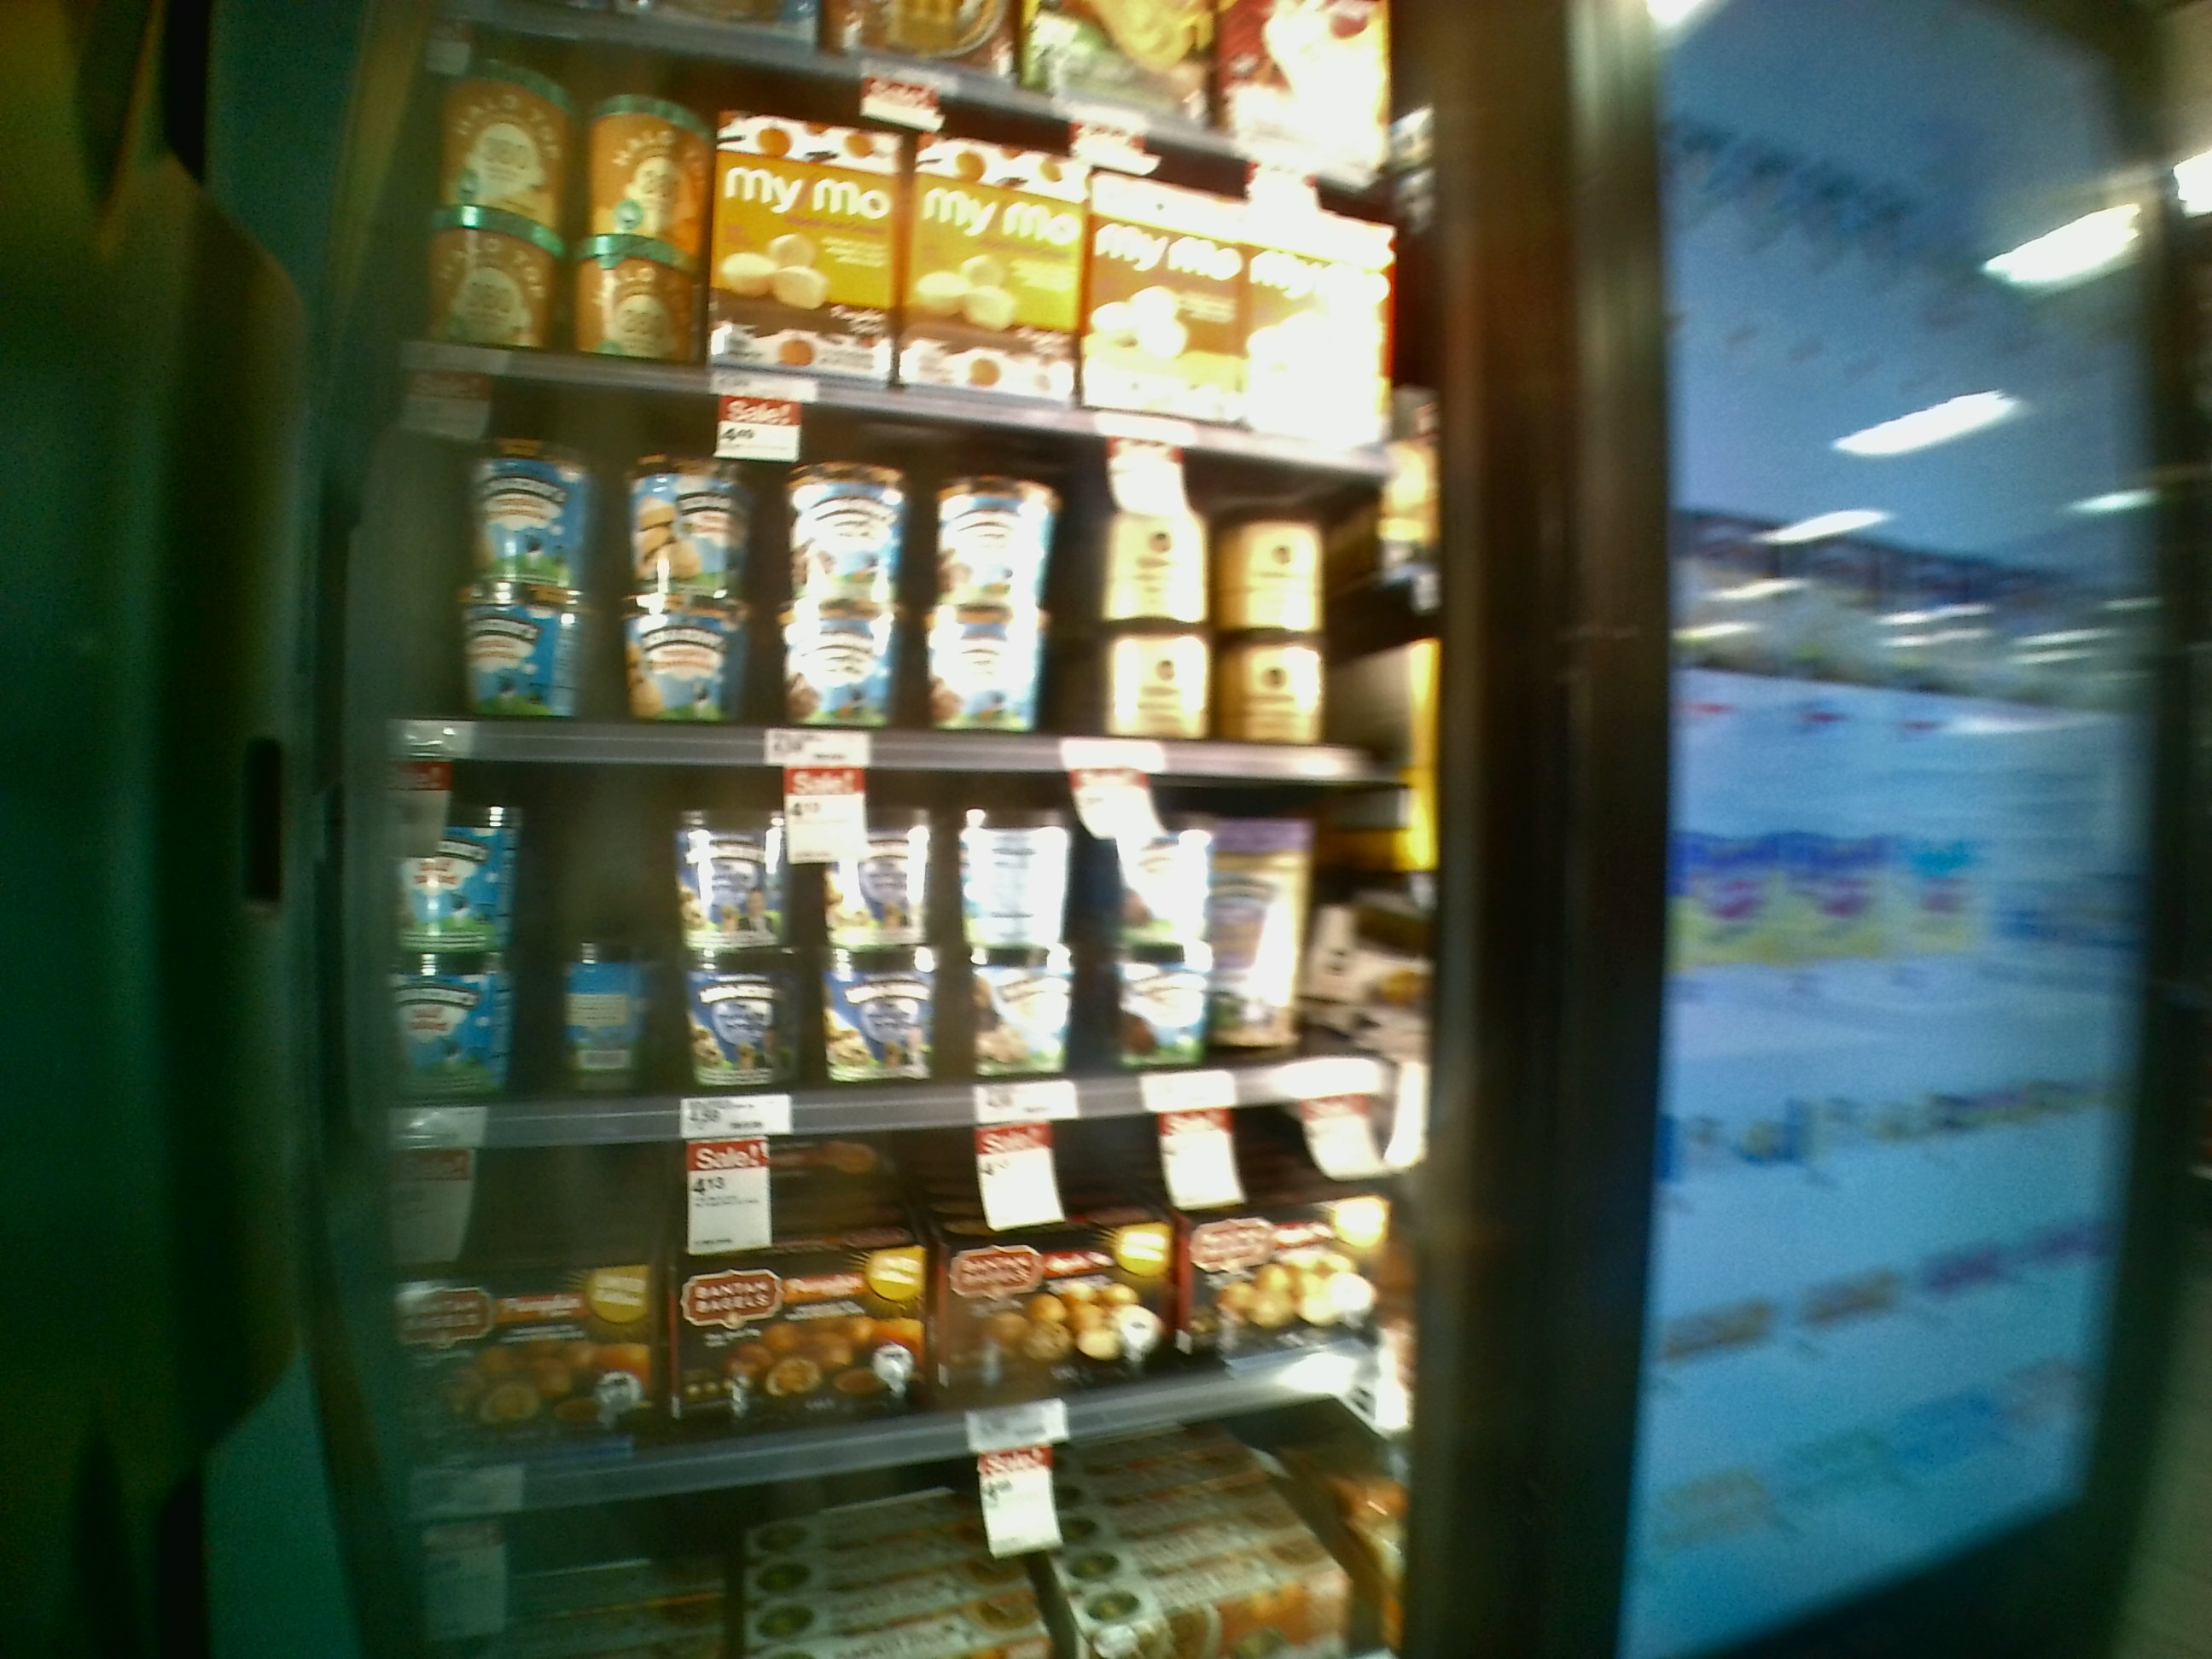shelf: (345, 1101, 1423, 1507), (376, 368, 1428, 779), (329, 735, 1428, 1100)
